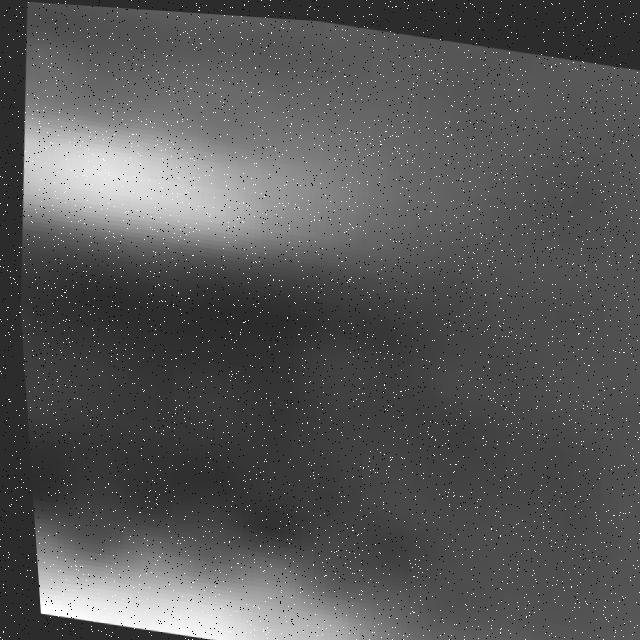person: (12, 88, 412, 290), (30, 550, 456, 640)
